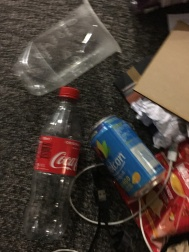bottle_red: (26, 79, 88, 244)
can_blue: (83, 108, 164, 203)
